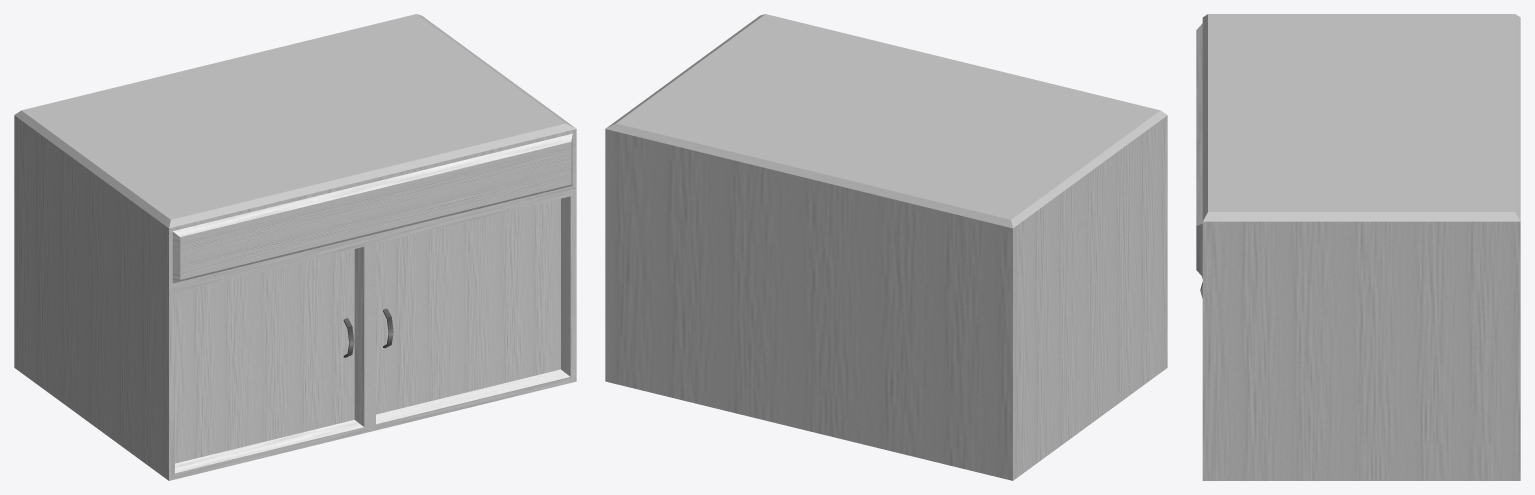
File: Kitchen_Counter_B_3.FBX
The picture shows the model from 3 angles, left to right: view 1: azimuth 30°, elevation 25°; view 2: azimuth 150°, elevation 25°; view 3: azimuth 270°, elevation 25°; orthographic projection. The views are drawn at different scales.
Parts seen in each view (by area): view 1: Counter_A_3; view 2: Counter_A_3; view 3: Counter_A_3.
Part boxes in pixels (x1,y1,x2,y2): Counter_A_3: [14, 14, 576, 480]; Counter_A_3: [605, 14, 1167, 480]; Counter_A_3: [1196, 14, 1520, 480].
Bounding box in the file's own units: 228 × 138 × 153.
